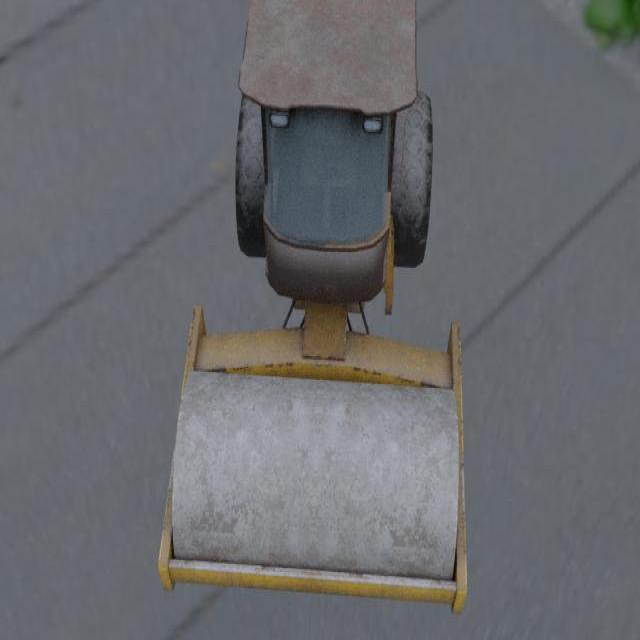Roller: (157, 0, 467, 616)
